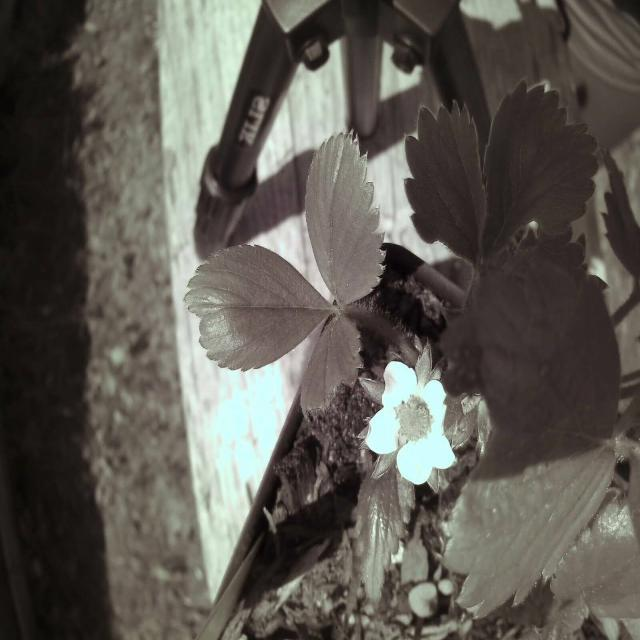flower: (366, 354, 460, 487)
